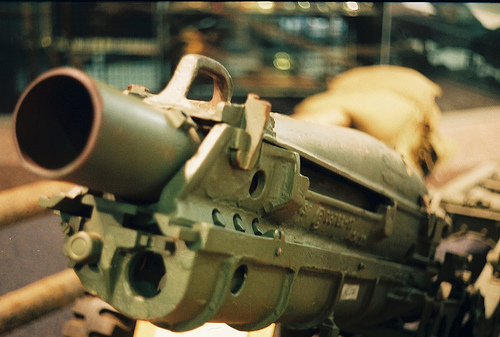rifle: (19, 31, 471, 321)
